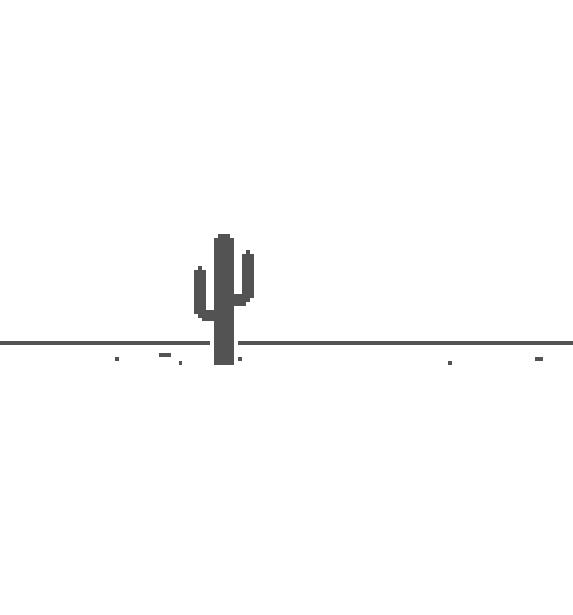t-rex: (191, 229, 258, 370)
